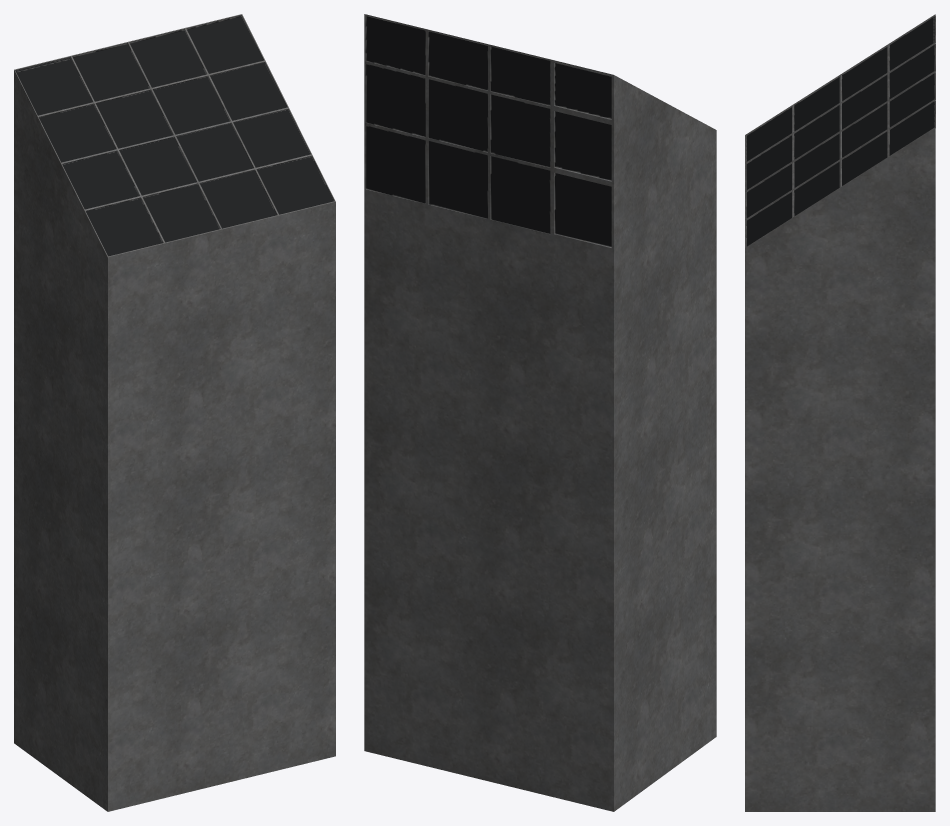
Rendered from batiment_glissade.fbx.
3 renders of one model, left to right at view 1: azimuth 30°, elevation 25°; view 2: azimuth 150°, elevation 25°; view 3: azimuth 270°, elevation 25°, orthographic. The views are drawn at different scales.
Visible parts, largest first — view 1: batiment_glissade; view 2: batiment_glissade; view 3: batiment_glissade.
Boxes of the visible parts, left/top/right/bottom form: batiment_glissade: left=14, top=14, right=335, bottom=811; batiment_glissade: left=364, top=14, right=716, bottom=811; batiment_glissade: left=745, top=14, right=935, bottom=811.
Size of the model in its own units: 1143 by 3227 by 815.
1 material, 1 textured.
